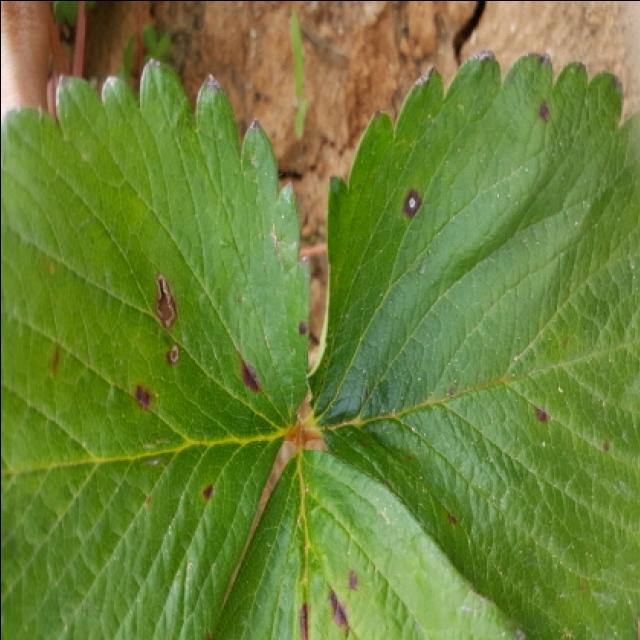Leaf Spot: (305, 50, 638, 640), (0, 57, 308, 640), (202, 449, 524, 640)
